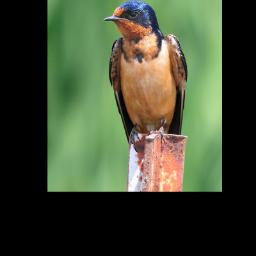Swallow: (103, 0, 188, 155)
